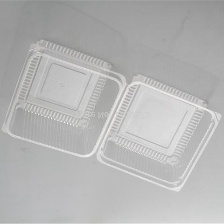plastic_box: (0, 33, 224, 197)
